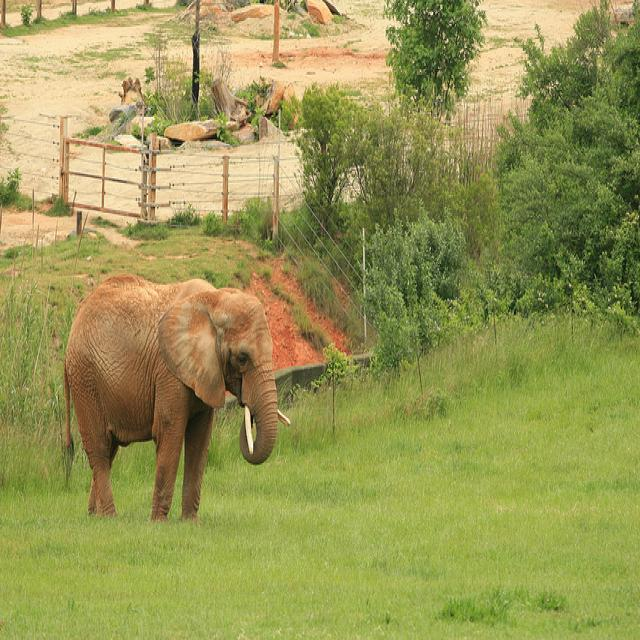Elephant: (62, 273, 290, 523)
